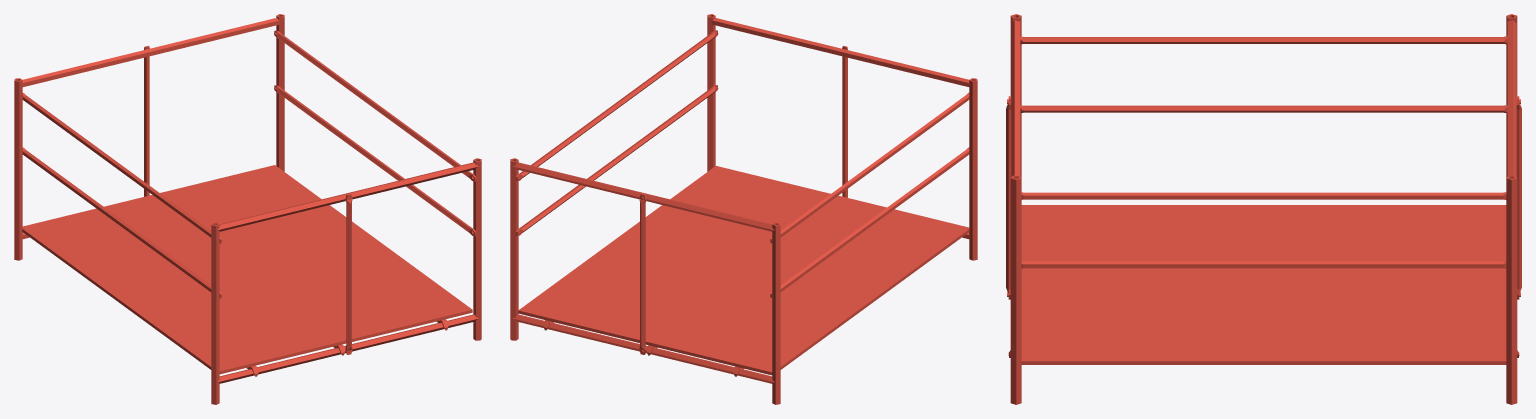
The model's file is SM_Scaffolding_T_Movie.fbx.
3 views of the same model, side by side, from view 1: azimuth 30°, elevation 25°; view 2: azimuth 150°, elevation 25°; view 3: azimuth 270°, elevation 25° (orthographic). The views are drawn at different scales.
Parts seen in each view (by area): view 1: SM_Scaffolding_T_Movie; view 2: SM_Scaffolding_T_Movie; view 3: SM_Scaffolding_T_Movie.
Part boxes in pixels (x1,y1,x2,y2): SM_Scaffolding_T_Movie: (14,14,481,404); SM_Scaffolding_T_Movie: (510,14,977,404); SM_Scaffolding_T_Movie: (1006,14,1521,404).
Size of the model in its own units: 271 by 206 by 130.
